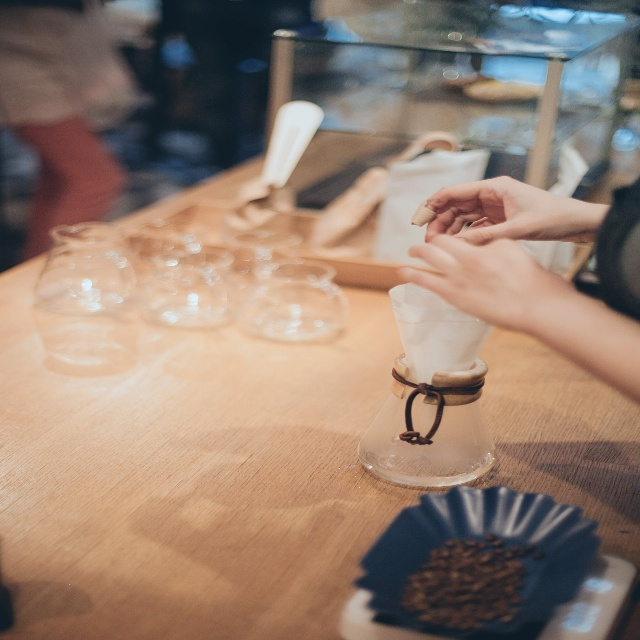Sin_guantes: (394, 216, 542, 331), (409, 166, 564, 251)
